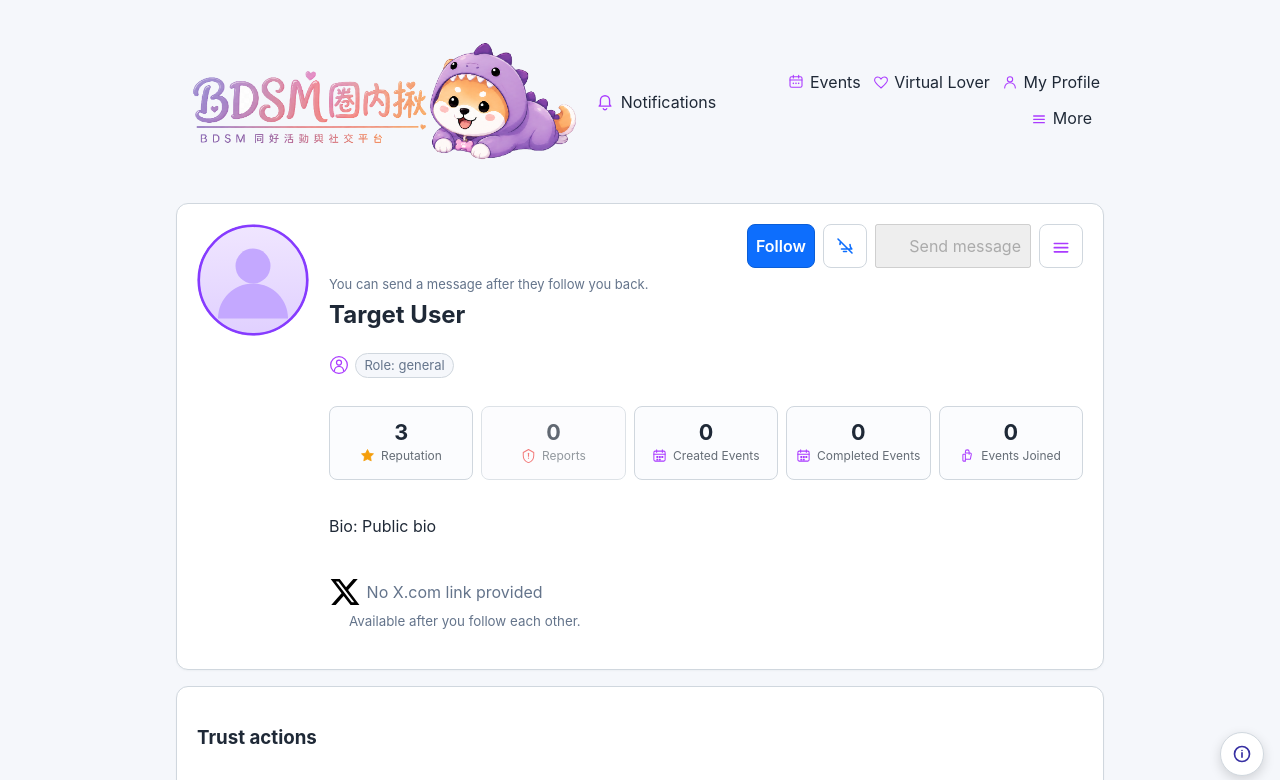
Test: ProfilePage › keeps secondary profile actions in the more menu
The image size is (1280, 780).
Click the button named "More options".
click(1061, 246)  # box [1039, 224, 1083, 268]
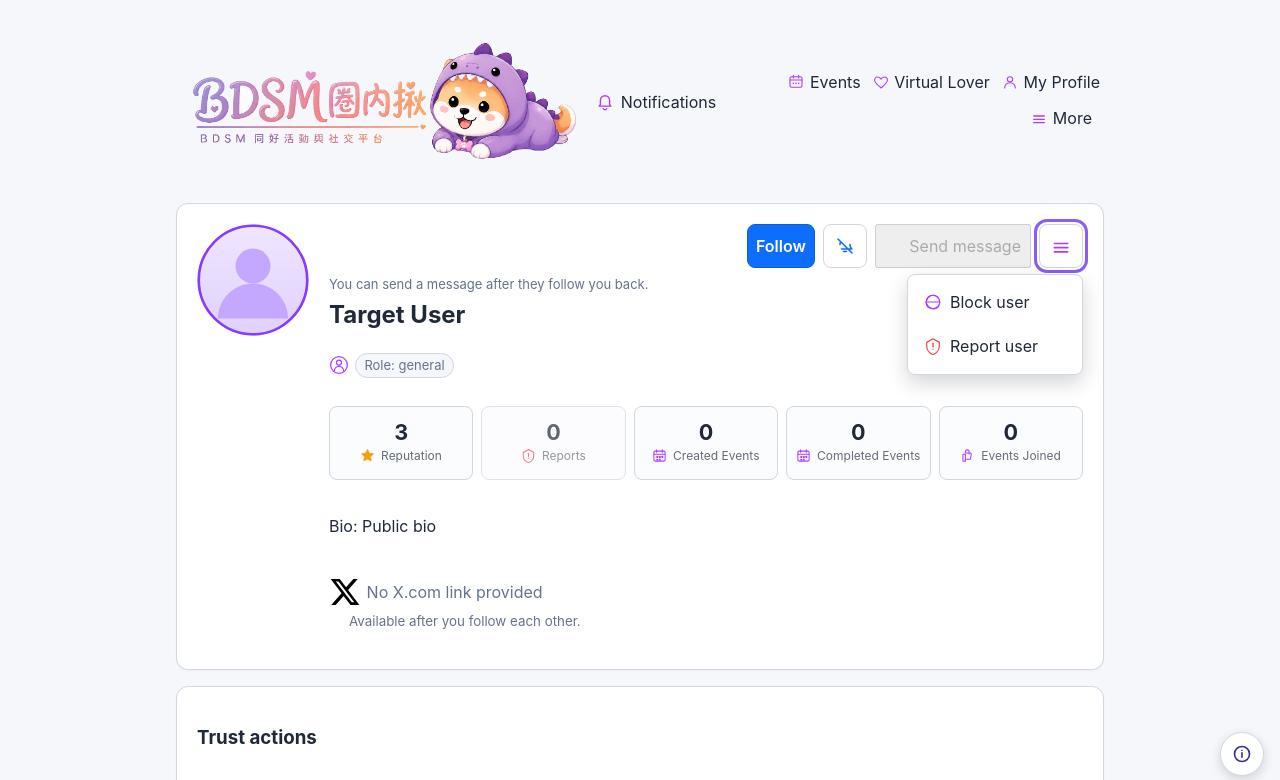
Result: the menu is shown at [907, 274, 1083, 375]
Result: the menu item "Block user" is shown at [914, 280, 1076, 324]
Result: the menu item "Report user" is shown at [924, 336, 1038, 356]
